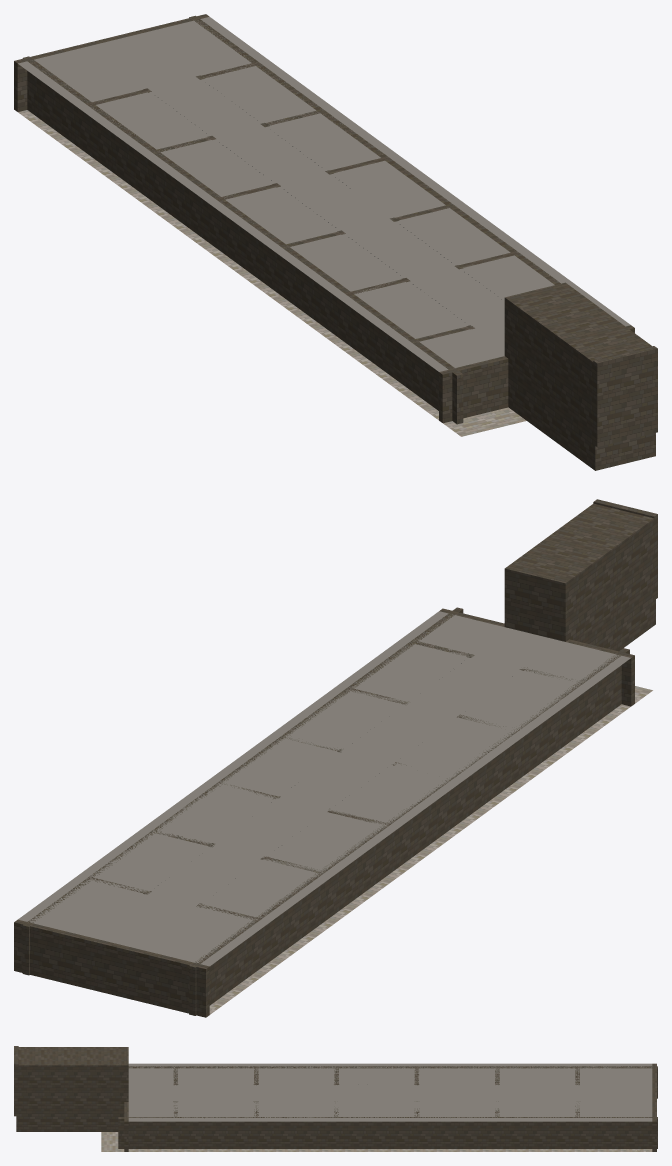
Rendered from mazmorras.glb.
3 renders of one model, top to bottom at view 1: azimuth 30°, elevation 25°; view 2: azimuth 150°, elevation 25°; view 3: azimuth 270°, elevation 25°, orthographic. The views are drawn at different scales.
Parts seen in each view (by area): view 1: mazmorras-1, mazmorras-0; view 2: mazmorras-1, mazmorras-0; view 3: mazmorras-1, mazmorras-0.
Boxes of the visible parts, x1,y1,x2,y2 form: mazmorras-1: (18, 16, 630, 371); mazmorras-0: (14, 14, 657, 470); mazmorras-1: (18, 611, 630, 966); mazmorras-0: (14, 499, 657, 1017); mazmorras-1: (128, 1063, 652, 1121); mazmorras-0: (14, 1046, 657, 1151).
Size of the model in its own units: 12 by 6.5 by 56.1.
Materials: 2 (1 with a texture image).
